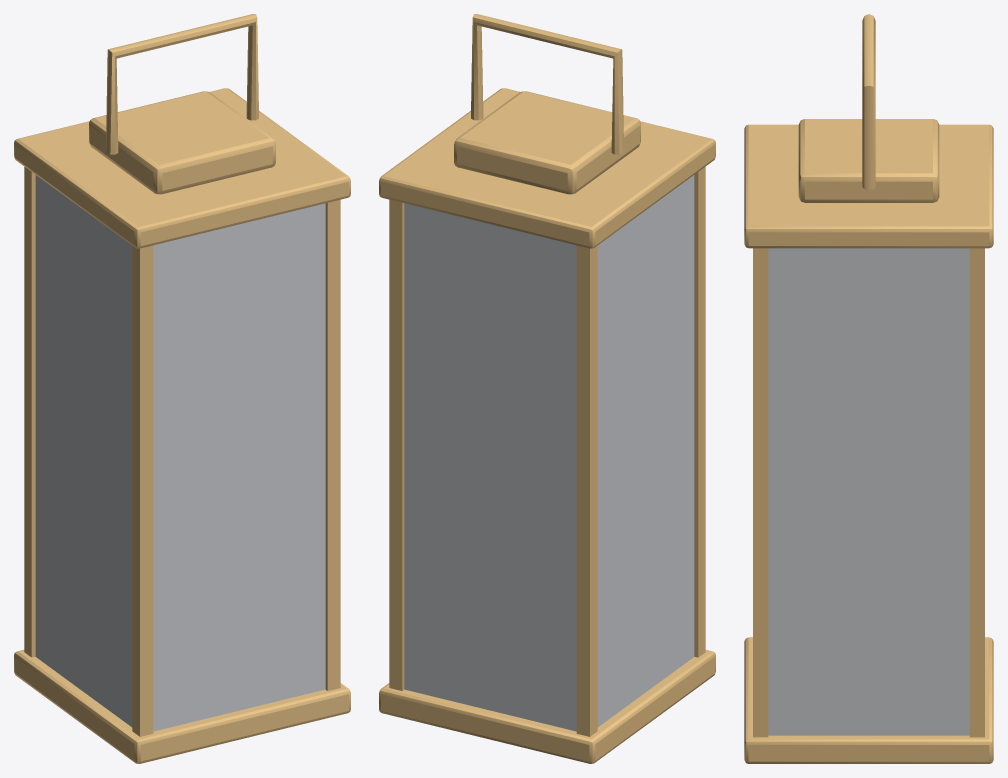
File: JAC_16_Lanterna.glb
The picture shows the model from 3 angles, left to right: view 1: azimuth 30°, elevation 25°; view 2: azimuth 150°, elevation 25°; view 3: azimuth 270°, elevation 25°; orthographic projection.
Parts seen in each view (by area): view 1: JAC_16_Lanterna; view 2: JAC_16_Lanterna; view 3: JAC_16_Lanterna.
Part boxes in pixels (box(x1,y1,x2,y2)): JAC_16_Lanterna: box(14, 14, 350, 763); JAC_16_Lanterna: box(379, 14, 715, 763); JAC_16_Lanterna: box(744, 14, 993, 763).
Size of the model in its own units: 0.23 by 0.675 by 0.23.
